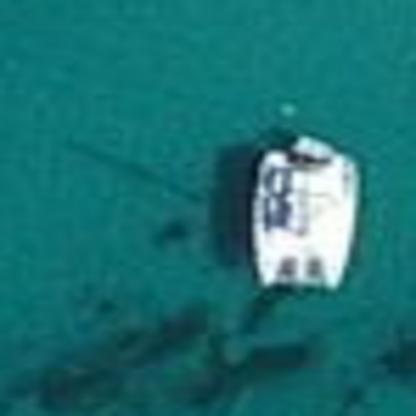ship: (238, 109, 366, 311)
